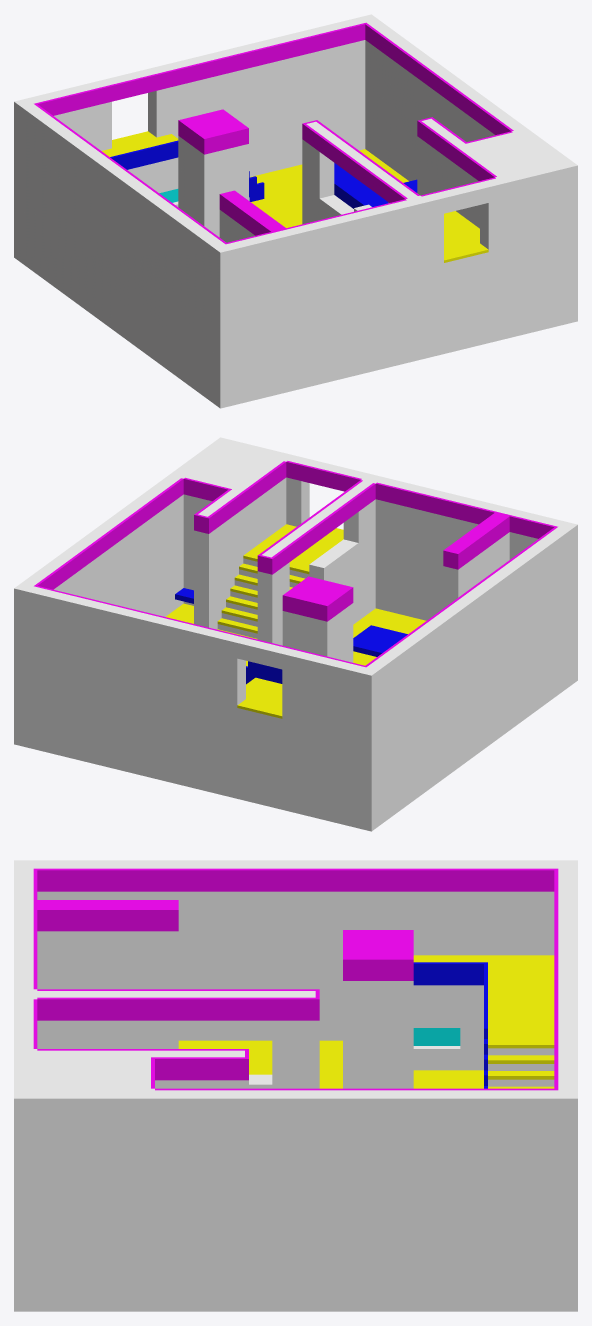
File: room_proto_detailed 3.obj
3 renders of one model, top to bottom at view 1: azimuth 30°, elevation 25°; view 2: azimuth 150°, elevation 25°; view 3: azimuth 270°, elevation 25°, orthographic. The views are drawn at different scales.
Size of the model in its own units: 14.4 by 6 by 14.4.
